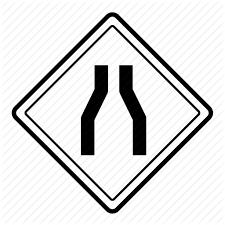narrow_road: (10, 11, 213, 212)
